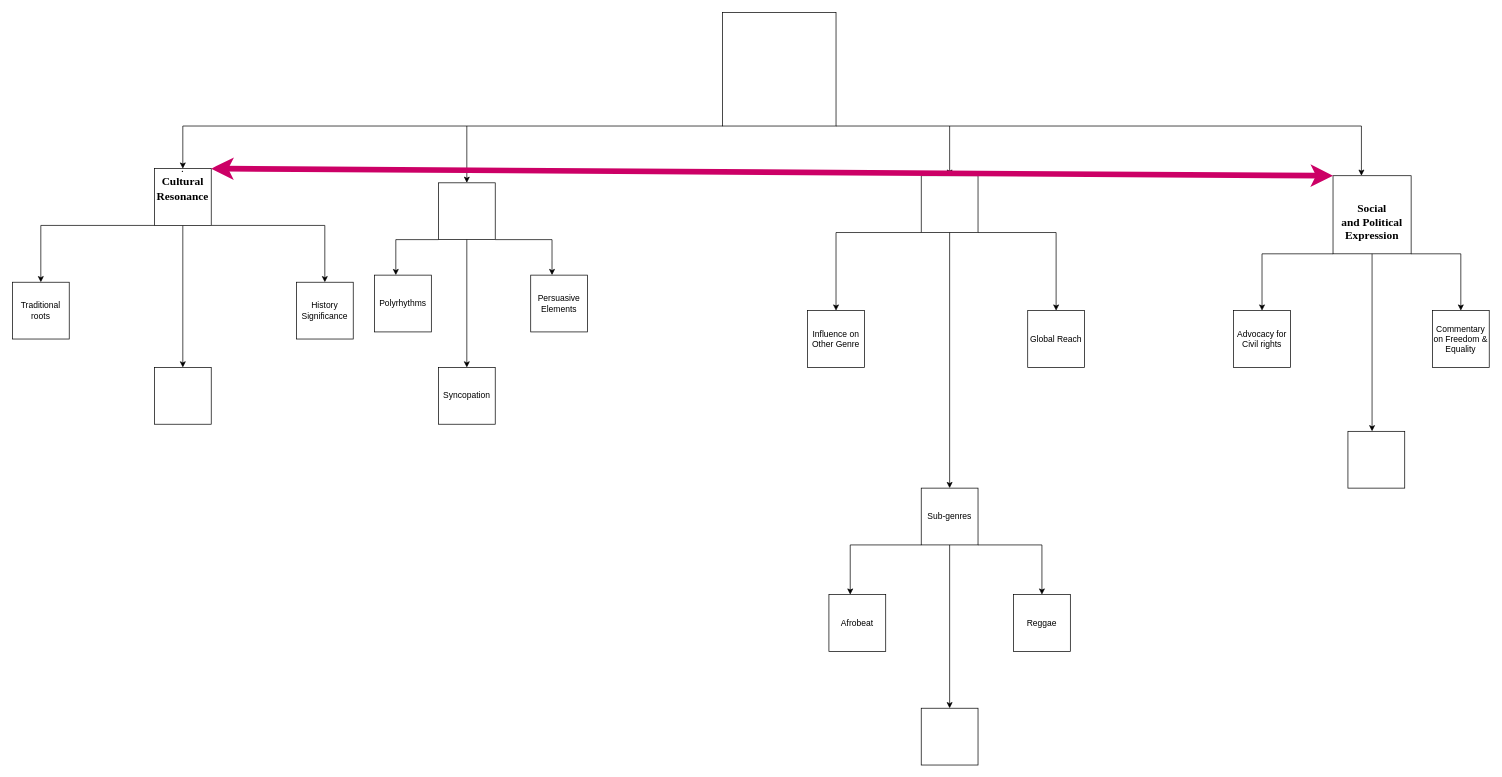
Image size: 1502x777. Some labels were removed from this diagram. Each missing label, with the box of its shape:
Cultural Diversity: (154, 367, 211, 424)
E.G. of Influential Artist: (1347, 431, 1405, 488)
Jazz: (921, 708, 978, 765)
Rhythmic Complexity: (438, 182, 495, 240)
The Afro Music System: A Journey Through Rhythm and History: (722, 12, 836, 126)
Transcultural Fusion: (921, 175, 978, 233)
